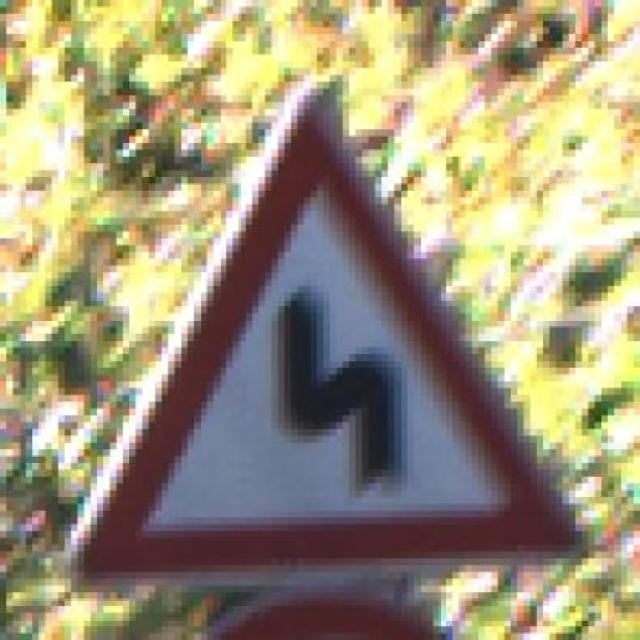Left Zig Zag Traffic: (45, 82, 582, 586)
